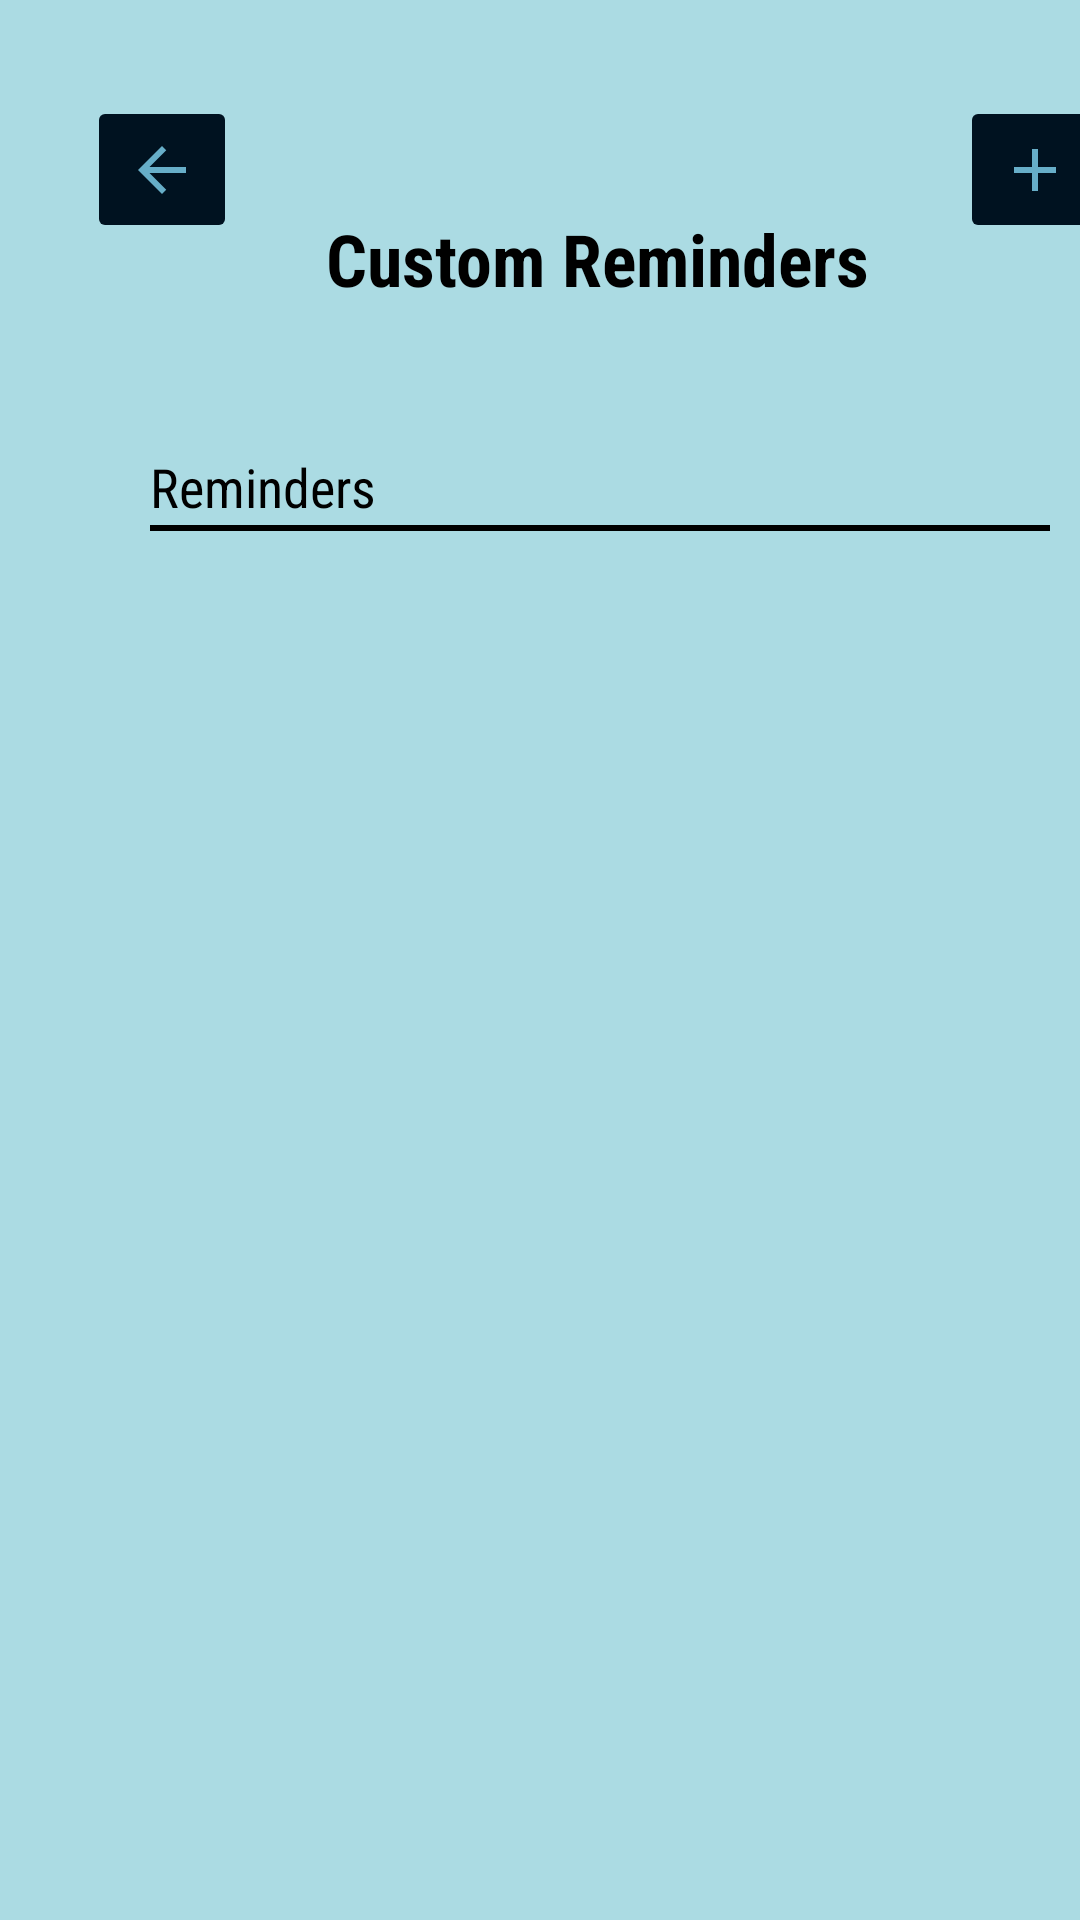

Where to tap for icons on this 1080 × 1920 app screen, as (x,y):
arrow back: (162,169)
